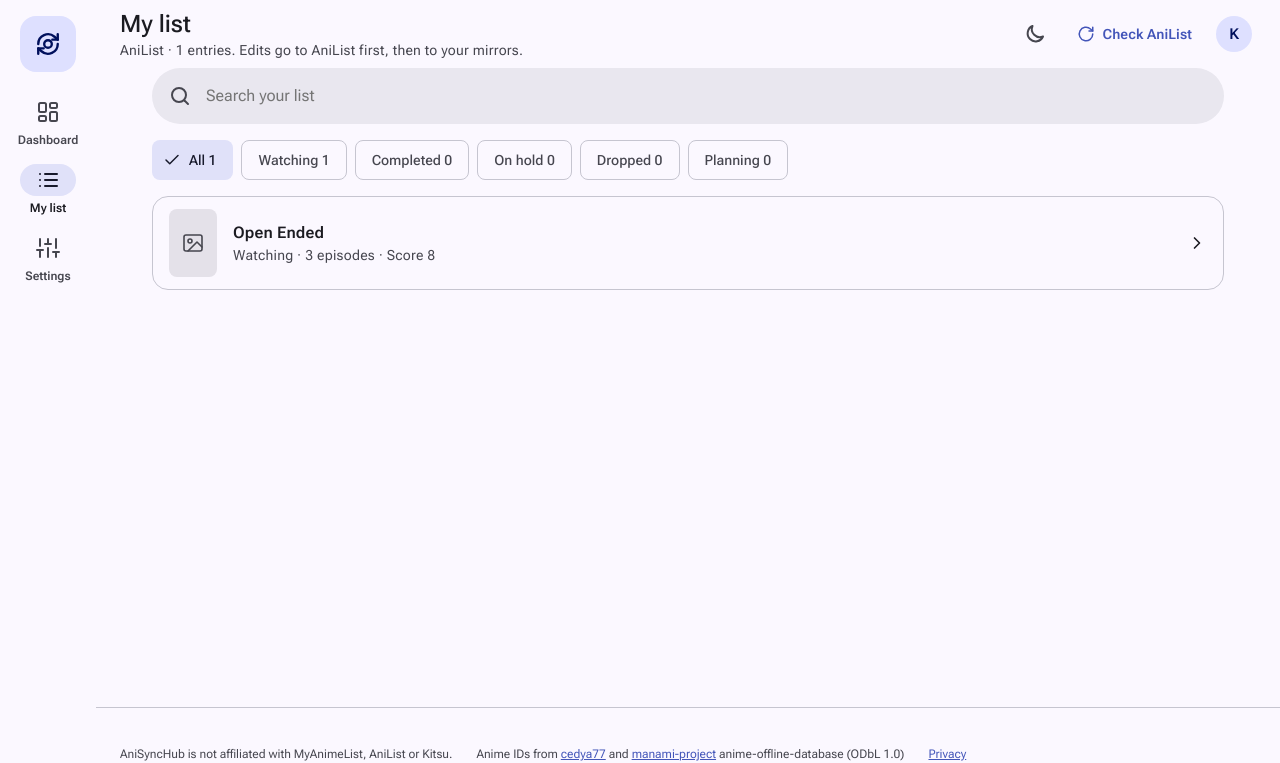
Scenario: my list › has no total to show for a title without a known episode count
Click the text "Open Ended": (279,232) [233,223,324,242]
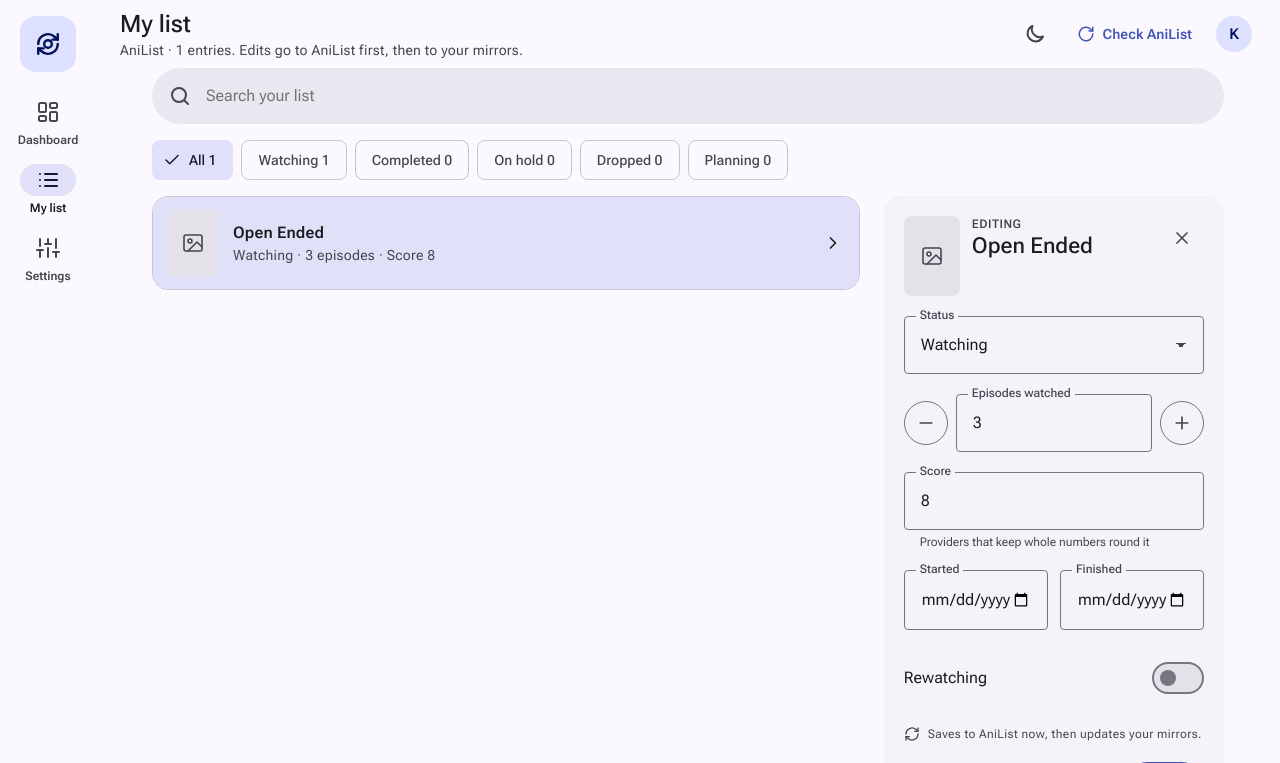
Expected: the number field labelled "Episodes watched" is shown, [956,394,1152,452]
